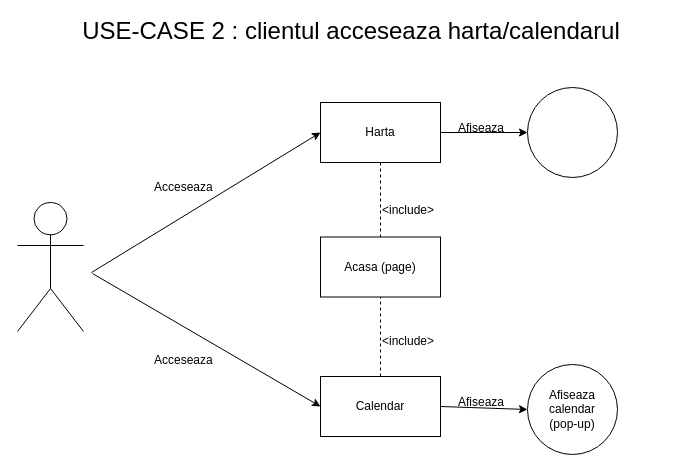
This 696x472 diagram has some shape labels left out. Here are the shapes that lost their labels. From the top down, the centre of each, then its label:
[572,132]: Afiseaza harta (pop-up)
[50,267]: Client
